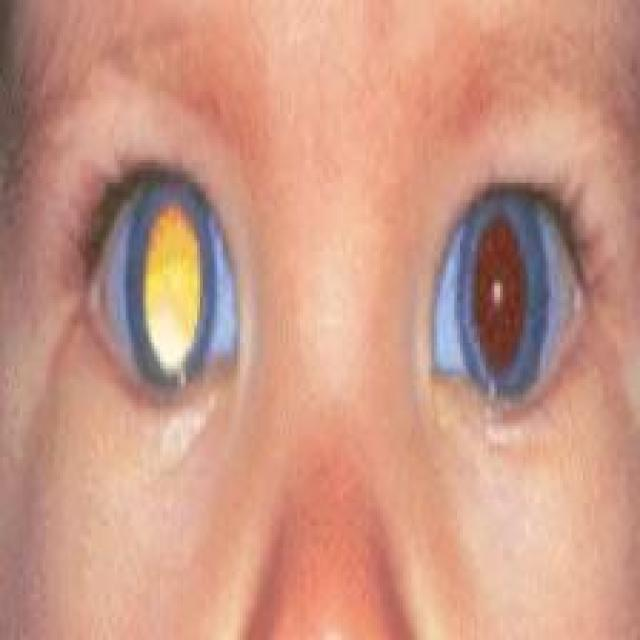reflexo-alterado: (78, 134, 267, 443)
reflexo-normal: (418, 166, 588, 447)
